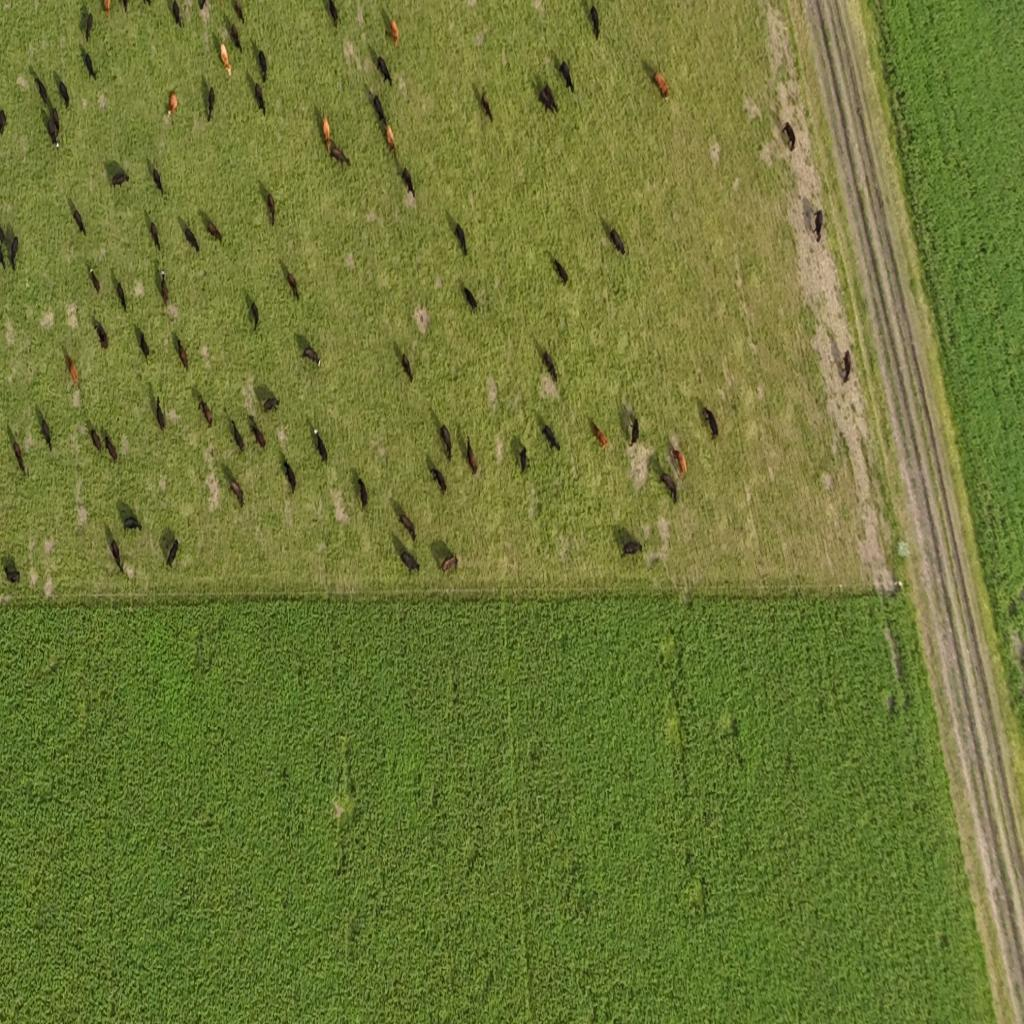cow: (448, 214, 470, 260), (703, 404, 721, 446), (618, 531, 644, 559), (68, 198, 86, 238), (538, 83, 558, 115), (542, 349, 559, 385), (660, 470, 678, 504), (312, 428, 328, 466), (63, 348, 79, 386), (12, 435, 27, 475), (204, 215, 224, 245), (428, 464, 446, 496), (135, 324, 151, 360), (2, 558, 21, 588), (183, 223, 200, 256), (558, 59, 574, 93), (250, 415, 266, 449), (541, 423, 559, 453), (371, 90, 386, 126), (329, 142, 350, 167), (398, 512, 416, 541), (514, 443, 529, 477), (590, 420, 607, 450), (283, 459, 297, 495), (176, 336, 190, 372), (111, 538, 124, 576), (440, 422, 452, 462), (377, 55, 392, 87), (671, 447, 687, 477), (94, 318, 109, 350), (34, 75, 49, 107), (552, 257, 569, 285), (230, 418, 244, 452), (40, 416, 52, 454), (466, 438, 478, 476), (654, 71, 669, 101), (462, 284, 478, 312), (402, 166, 416, 198), (199, 396, 213, 428), (88, 422, 102, 454), (104, 430, 118, 462), (480, 89, 493, 123), (441, 551, 458, 577), (220, 43, 232, 79), (287, 269, 300, 302), (159, 267, 170, 306), (231, 478, 245, 508), (254, 81, 266, 116), (115, 277, 127, 312), (401, 553, 420, 575), (610, 228, 626, 254), (83, 50, 96, 82), (57, 77, 70, 109), (840, 349, 852, 383), (782, 122, 796, 151), (124, 513, 142, 535), (206, 84, 216, 123), (155, 395, 166, 430), (150, 222, 162, 254), (321, 114, 331, 152), (166, 538, 179, 567), (267, 189, 277, 226), (9, 235, 19, 272), (357, 476, 368, 509), (590, 4, 600, 40), (46, 119, 58, 149), (302, 346, 320, 366), (111, 168, 129, 188), (230, 22, 242, 52), (263, 393, 280, 414), (327, 0, 340, 27), (152, 167, 164, 196), (258, 48, 268, 82), (814, 209, 824, 242), (385, 123, 395, 155), (402, 351, 412, 382), (89, 266, 100, 294), (251, 300, 260, 334), (629, 416, 639, 446), (172, 0, 182, 28), (233, 0, 245, 23), (84, 12, 93, 42), (390, 18, 399, 47), (168, 92, 178, 118), (0, 109, 8, 138), (198, 0, 209, 21), (53, 106, 61, 134), (103, 0, 111, 19), (120, 0, 129, 15)
